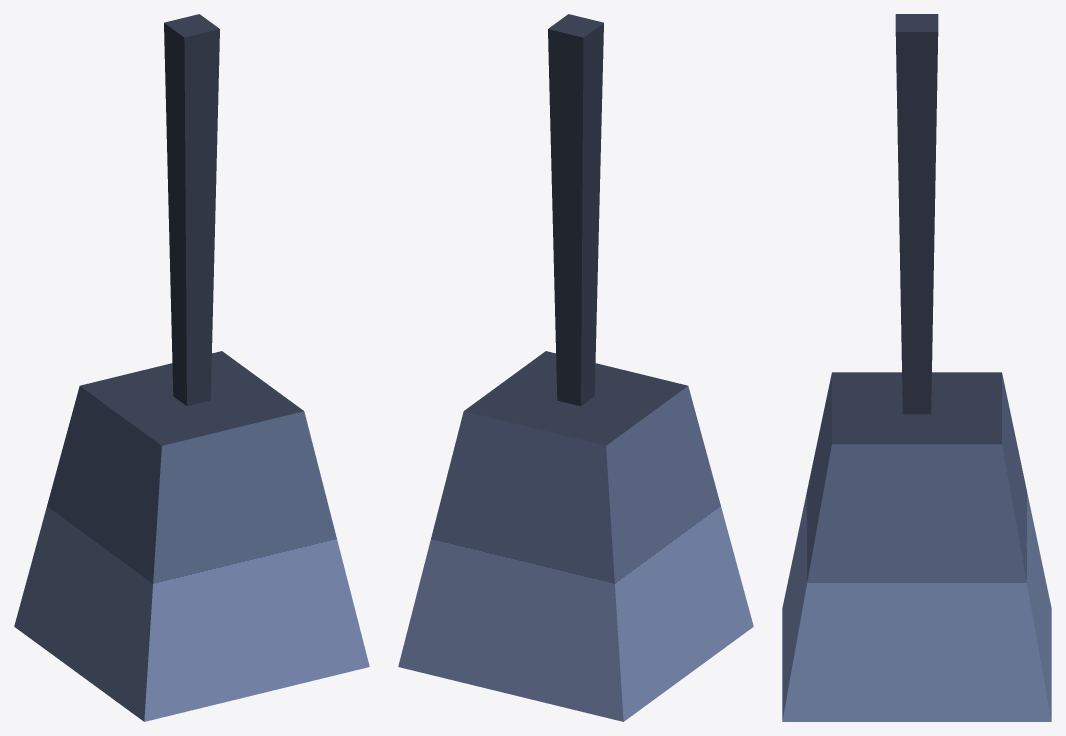
File: ceiling_Lamp.fbx
The picture shows the model from 3 angles, left to right: view 1: azimuth 30°, elevation 25°; view 2: azimuth 150°, elevation 25°; view 3: azimuth 270°, elevation 25°; orthographic projection. The views are drawn at different scales.
Parts seen in each view (by area): view 1: cuboid; view 2: cuboid; view 3: cuboid.
Part boxes in pixels (box(x1,y1,x2,y2)): cuboid: box(14, 14, 369, 721); cuboid: box(398, 14, 753, 721); cuboid: box(782, 14, 1051, 721).
Size of the model in its own units: 7.92 by 20.83 by 7.92.
Materials: 1 (1 with a texture image).
